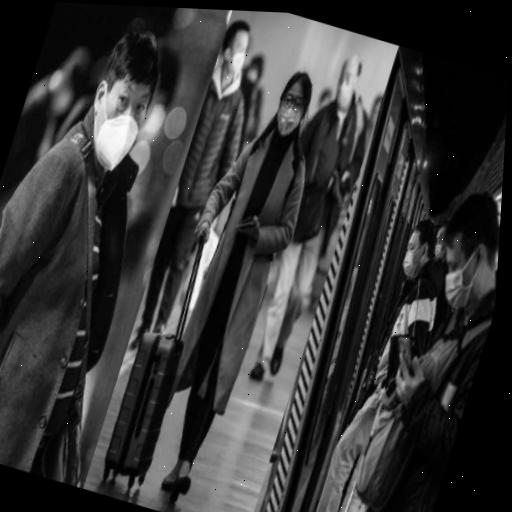mask: (65, 12, 183, 189), (417, 177, 503, 322), (263, 63, 322, 146), (206, 9, 260, 83), (394, 211, 441, 287), (325, 47, 369, 118)
